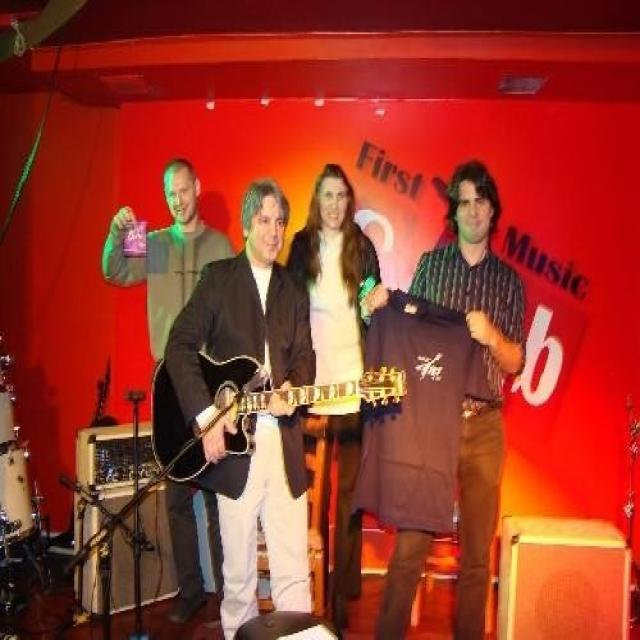drums: (0, 337, 40, 640)
guitar: (151, 351, 413, 481)
